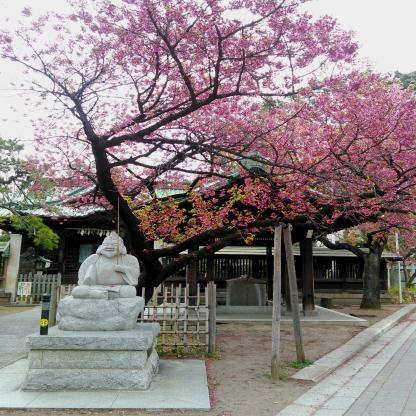KanhiSakura: (0, 0, 361, 260), (186, 64, 416, 262)
